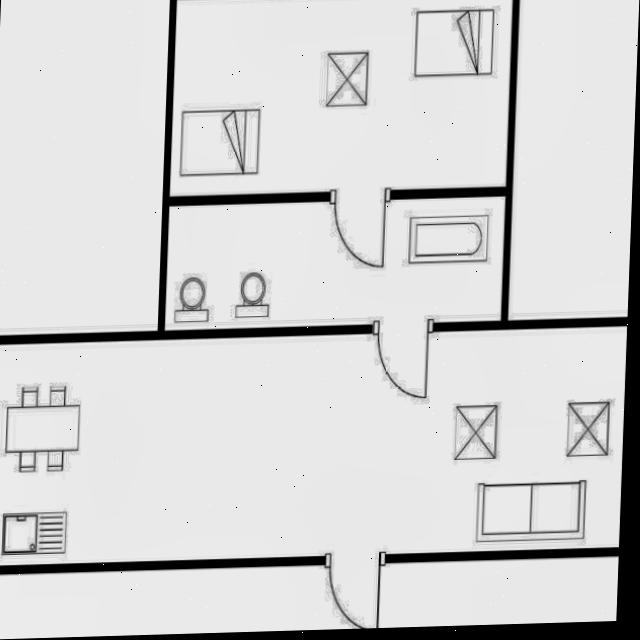room: (0, 326, 632, 566), (169, 0, 511, 196), (160, 197, 508, 330)
